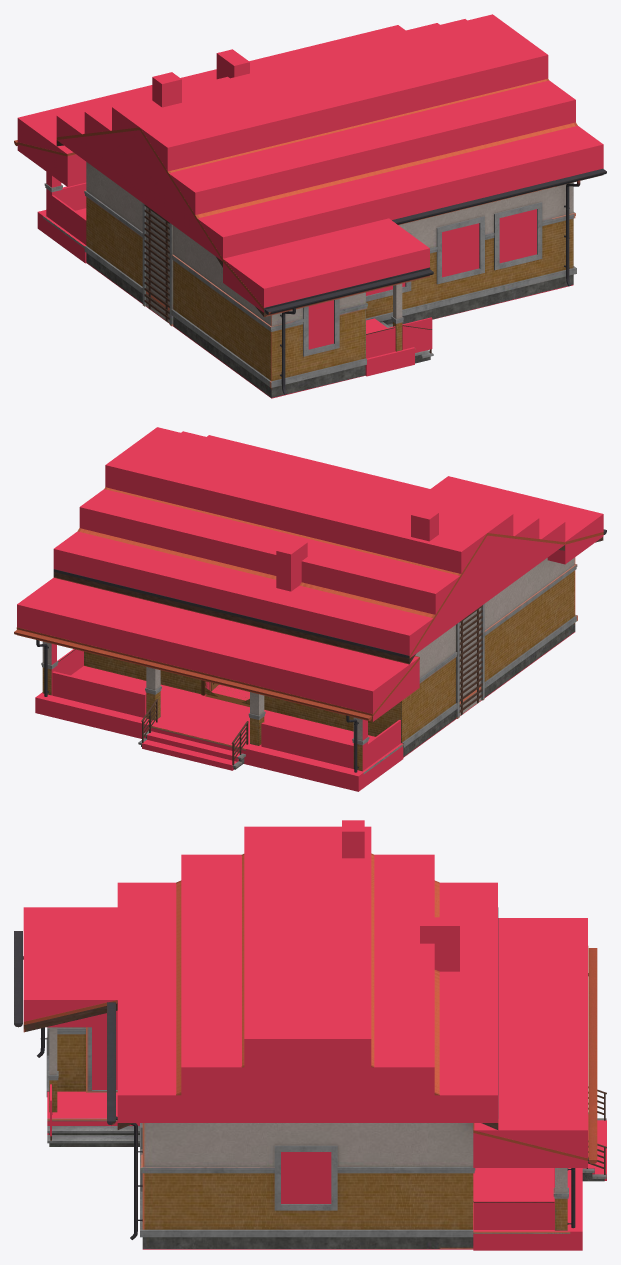
Rendered from house_cottage_v001.glb.
3 views of the same model, one above another, from view 1: azimuth 30°, elevation 25°; view 2: azimuth 150°, elevation 25°; view 3: azimuth 270°, elevation 25° (orthographic). The views are drawn at different scales.
Parts seen in each view (by area): view 1: murs, COL_toit_haut, COL_toit_bas, COL_toit_milieu, COL_toit_aile, COL_toit_porche, deco, toit, COL_mur_arriere, fenetres, echelle, COL_mur_aile_arriere (+9 smaller); view 2: COL_toit_haut, COL_toit_porche, COL_toit_bas, murs, COL_toit_milieu, COL_porche, toit, COL_toit_aile, porche, COL_rambarde_avant_droite, COL_rambarde_avant_gauche, echelle (+8 smaller); view 3: murs, COL_toit_bas, COL_toit_milieu, COL_toit_haut, COL_toit_porche, COL_toit_aile, toit, COL_porche, porche, deco, COL_mur_est, COL_rambarde_cote_droite (+6 smaller).
Boxes of the visible parts, left/top/right/bottom form: murs: left=56, top=140, right=602, bottom=397; COL_toit_haut: left=112, top=14, right=548, bottom=171; COL_toit_bas: left=56, top=23, right=603, bottom=260; COL_toit_milieu: left=84, top=19, right=575, bottom=215; COL_toit_aile: left=223, top=218, right=429, bottom=312; COL_toit_porche: left=17, top=25, right=405, bottom=186; deco: left=264, top=168, right=606, bottom=394; toit: left=14, top=78, right=577, bottom=310; COL_mur_arriere: left=366, top=209, right=536, bottom=295; fenetres: left=303, top=202, right=542, bottom=356; echelle: left=142, top=203, right=173, bottom=326; COL_mur_aile_arriere: left=267, top=250, right=364, bottom=349; COL_toit_haut: left=105, top=427, right=513, bottom=573; COL_toit_porche: left=17, top=577, right=419, bottom=721; COL_toit_bas: left=53, top=435, right=565, bottom=657; murs: left=53, top=537, right=603, bottom=769; COL_toit_milieu: left=79, top=431, right=539, bottom=615; COL_porche: left=35, top=666, right=403, bottom=791; toit: left=14, top=487, right=603, bottom=721; COL_toit_aile: left=431, top=476, right=603, bottom=564; porche: left=41, top=641, right=403, bottom=774; COL_rambarde_avant_droite: left=52, top=671, right=146, bottom=717; COL_rambarde_avant_gauche: left=261, top=722, right=353, bottom=768; echelle: left=456, top=604, right=484, bottom=718; murs: left=23, top=1000, right=604, bottom=1248; COL_toit_bas: left=117, top=882, right=497, bottom=1122; COL_toit_milieu: left=181, top=854, right=434, bottom=1095; COL_toit_haut: left=244, top=826, right=371, bottom=1067; COL_toit_porche: left=473, top=918, right=587, bottom=1167; COL_toit_aile: left=23, top=907, right=117, bottom=1027; toit: left=23, top=853, right=597, bottom=1163; COL_porche: left=473, top=1168, right=582, bottom=1250; porche: left=47, top=1027, right=606, bottom=1233; deco: left=14, top=907, right=588, bottom=1239; COL_mur_est: left=281, top=1152, right=331, bottom=1203; COL_rambarde_cote_droite: left=474, top=1201, right=554, bottom=1229.
Size of the model in its own units: 12.44 by 6.76 by 14.65.
Materials: 24 (2 with a texture image).
